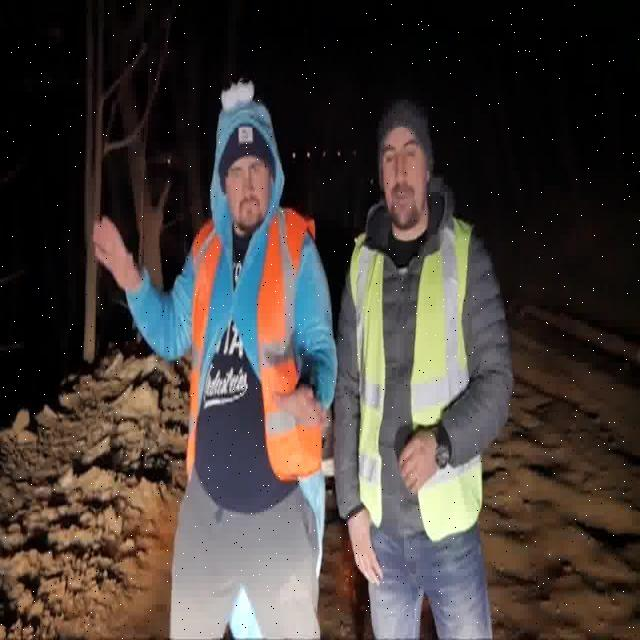Person: (99, 92, 332, 640), (339, 99, 516, 640)
Vest: (352, 218, 482, 534), (198, 206, 325, 487)
